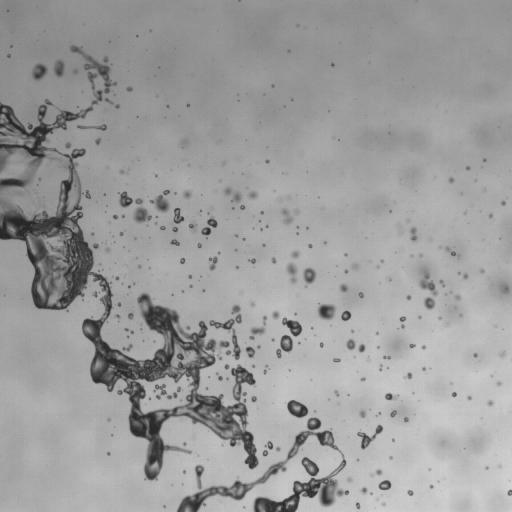droplet: (150, 190, 169, 213), (287, 400, 308, 418), (317, 303, 336, 320), (224, 187, 241, 202), (32, 64, 47, 80), (303, 267, 316, 285), (281, 208, 293, 224), (54, 60, 64, 77), (173, 208, 184, 223), (378, 480, 391, 490), (208, 256, 217, 270), (341, 310, 351, 321), (245, 346, 254, 357), (385, 393, 398, 400), (346, 339, 355, 349), (188, 221, 196, 231), (183, 190, 192, 198), (248, 191, 257, 199), (371, 469, 382, 475), (291, 250, 299, 258), (339, 284, 347, 292), (272, 311, 279, 319), (358, 344, 365, 352), (171, 239, 179, 245), (404, 372, 412, 378), (359, 409, 365, 417), (181, 139, 187, 146), (503, 286, 509, 293), (390, 410, 396, 417), (361, 487, 367, 494), (92, 291, 98, 297), (487, 400, 493, 406), (126, 86, 132, 91), (95, 138, 100, 144), (65, 142, 70, 148), (448, 177, 454, 182), (128, 313, 133, 319), (115, 314, 120, 320), (400, 316, 405, 322), (500, 351, 505, 357), (251, 396, 257, 401), (407, 490, 413, 495), (383, 355, 390, 359), (172, 227, 177, 232), (93, 243, 98, 248), (180, 258, 185, 263), (250, 258, 255, 263), (271, 258, 276, 263), (352, 264, 357, 269), (463, 274, 468, 279), (358, 292, 363, 297), (455, 295, 460, 300), (333, 358, 339, 362), (507, 489, 511, 495), (240, 205, 245, 209), (112, 215, 117, 219), (406, 295, 411, 299), (334, 390, 338, 395), (451, 392, 456, 396), (404, 417, 408, 422), (347, 477, 351, 482), (356, 503, 360, 508), (115, 104, 119, 108), (501, 201, 505, 205), (197, 243, 201, 247), (480, 269, 484, 273), (250, 302, 254, 306), (400, 324, 404, 328), (421, 345, 425, 349), (473, 353, 477, 357), (361, 377, 365, 381), (496, 381, 500, 385), (276, 447, 280, 451), (381, 502, 385, 506), (379, 365, 382, 370), (265, 159, 268, 163), (120, 170, 124, 173), (308, 244, 312, 247), (106, 247, 109, 251), (344, 269, 347, 273), (117, 302, 120, 306), (320, 342, 323, 346), (410, 344, 414, 347), (467, 396, 471, 399), (74, 70, 77, 73), (466, 166, 469, 169), (38, 177, 41, 180), (295, 210, 298, 213), (489, 214, 492, 217), (161, 226, 164, 229), (120, 232, 123, 235), (115, 276, 118, 279), (422, 367, 425, 370), (107, 418, 110, 421), (107, 452, 110, 455), (430, 485, 433, 488), (7, 54, 9, 57), (121, 215, 124, 217), (91, 232, 93, 235), (235, 234, 237, 237), (188, 275, 191, 277), (418, 316, 421, 318), (252, 364, 254, 367), (390, 456, 392, 459), (486, 466, 488, 469), (183, 470, 185, 473), (243, 238, 245, 240), (263, 244, 265, 246), (419, 254, 421, 256), (138, 265, 140, 267), (236, 266, 238, 268), (439, 317, 441, 319), (351, 330, 353, 332), (257, 346, 259, 348)
ligament: (0, 45, 253, 480), (176, 417, 349, 511), (276, 317, 302, 358), (119, 191, 151, 223), (419, 272, 437, 309), (357, 425, 382, 449), (154, 384, 181, 399), (250, 316, 266, 339), (201, 215, 217, 236), (286, 262, 297, 283), (77, 124, 106, 130), (262, 441, 273, 456), (410, 227, 417, 241), (445, 247, 455, 255), (216, 373, 222, 381), (125, 328, 133, 333), (263, 366, 268, 373), (439, 280, 444, 286)
